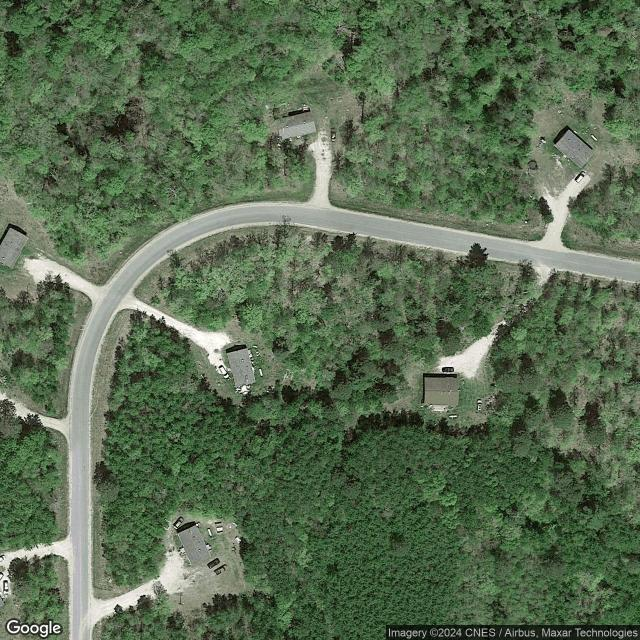Propane: (590, 133, 599, 142), (207, 527, 214, 537), (251, 343, 260, 350), (258, 367, 264, 377), (448, 414, 458, 419)
